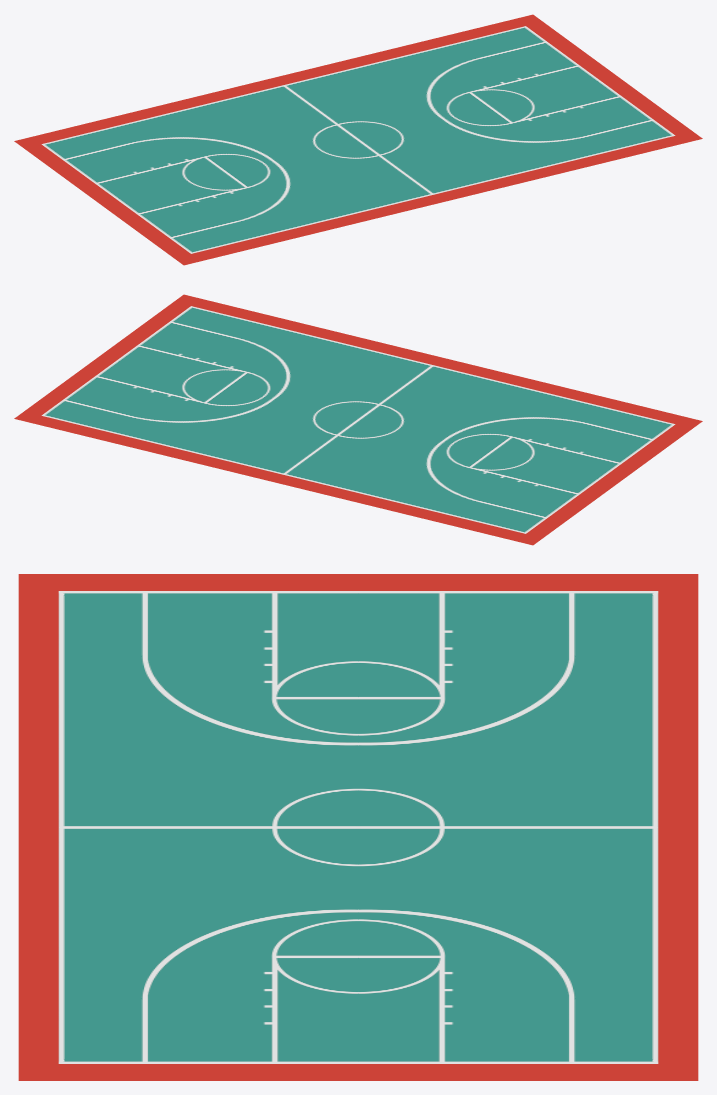
The model's file is Basketball_Court_V2.fbx.
3 views of the same model, one above another, from view 1: azimuth 30°, elevation 25°; view 2: azimuth 150°, elevation 25°; view 3: azimuth 270°, elevation 25° (orthographic). The views are drawn at different scales.
Parts seen in each view (by area): view 1: Basketball_Court_V2; view 2: Basketball_Court_V2; view 3: Basketball_Court_V2.
Part boxes in pixels (<box>): Basketball_Court_V2: <box>14,14,702,265</box>; Basketball_Court_V2: <box>14,294,702,545</box>; Basketball_Court_V2: <box>18,574,698,1080</box>.
Size of the model in its own units: 3000 by 0 by 1700.
